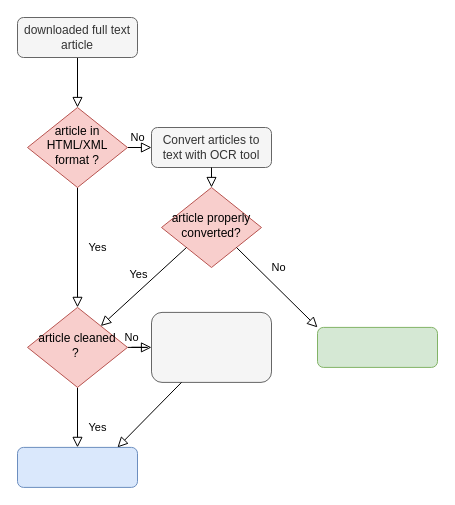
The diagram is 455 pixels wide and 505 high, and some of its shapes have lost their labels. The box of each missing label's shape, as (x1, y1, x2, y2) in pixels:
clean document: remove authors, acknowledgements, references, ...: (150, 311, 272, 382)
send article to a model: (16, 446, 138, 487)
use multimodal model for the data extraction: (316, 326, 438, 367)
